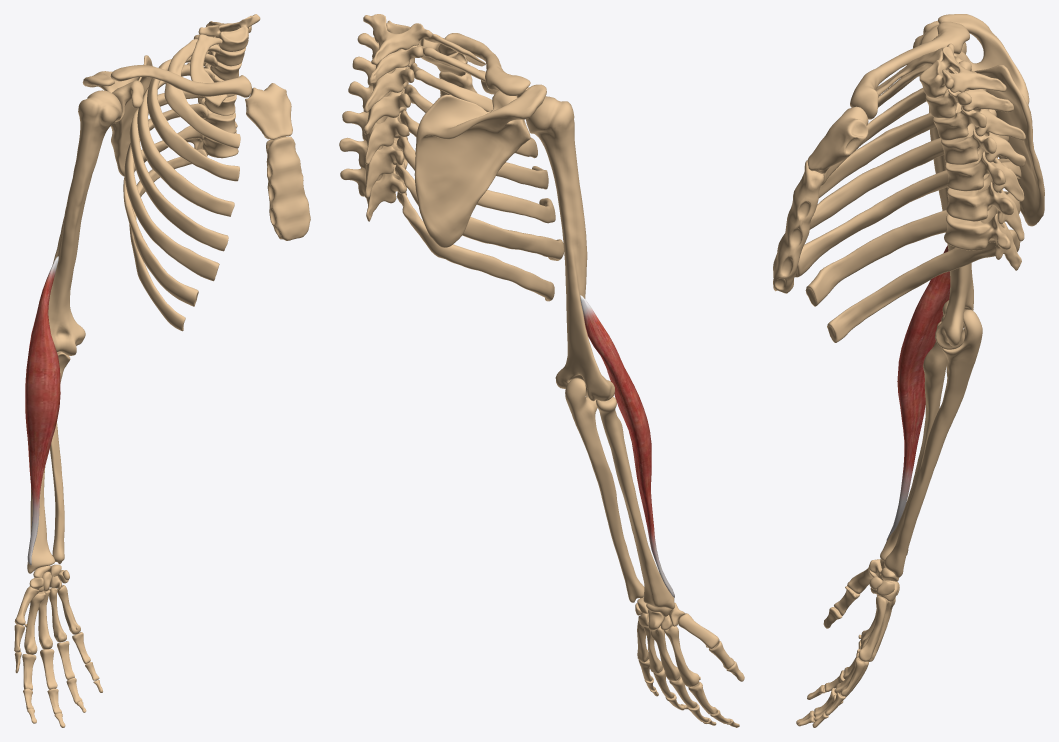
File: overview_demo.glb
The picture shows the model from 3 angles, left to right: view 1: azimuth 30°, elevation 25°; view 2: azimuth 150°, elevation 25°; view 3: azimuth 270°, elevation 25°; orthographic projection. The views are drawn at different scales.
Visible parts, largest first — view 1: Humerus.r, Brachioradialis muscle.r, Body of sternum, Rib (6th).r, Rib (4th).r, Rib (5th).r, Scapula.r, Rib (3rd).r, Rib (7th).r, Rib (2nd).r, Clavicle.r, Manubrium of sternum (+9 smaller); view 2: Scapula.r, Humerus.r, Brachioradialis muscle.r, Ulna.r, Radius.r, Rib (8th).r, Rib (7th).r, Clavicle.r, Rib (6th).r, Thoracic vertebrae (T1), Thoracic vertebrae (T6), Thoracic vertebrae (T5) (+9 smaller); view 3: Scapula.r, Brachioradialis muscle.r, Ulna.r, Rib (8th).r, Rib (7th).r, Rib (6th).r, Humerus.r, Body of sternum, Rib (5th).r, Clavicle.r, Thoracic vertebrae (T7), Thoracic vertebrae (T6) (+12 smaller).
Part boxes in pixels (x1,y1,x2,y2): Humerus.r: (48,90,121,355); Brachioradialis muscle.r: (25,256,60,565); Body of sternum: (266,136,310,240); Rib (6th).r: (124,103,219,281); Rib (4th).r: (137,64,234,216); Rib (5th).r: (129,91,228,251); Scapula.r: (82,55,152,176); Rib (3rd).r: (147,53,239,181); Rib (7th).r: (123,125,204,306); Rib (2nd).r: (164,38,240,148); Clavicle.r: (110,65,251,97); Manubrium of sternum: (245,83,292,139); Scapula.r: (414,84,546,247); Humerus.r: (526,96,614,401); Brachioradialis muscle.r: (580,295,674,597); Ulna.r: (565,378,644,602); Radius.r: (596,396,674,608); Rib (8th).r: (397,192,554,301); Rib (7th).r: (395,162,563,260); Clavicle.r: (438,33,530,95); Rib (6th).r: (396,136,555,223); Thoracic vertebrae (T1): (363,14,432,64); Thoracic vertebrae (T6): (339,137,404,197); Thoracic vertebrae (T5): (342,111,409,164); Scapula.r: (938,14,1044,226); Brachioradialis muscle.r: (886,245,950,540); Ulna.r: (884,309,982,577); Rib (8th).r: (827,229,1020,342); Rib (7th).r: (805,191,1020,306); Rib (6th).r: (795,158,1021,277); Humerus.r: (913,20,973,349); Body of sternum: (773,160,823,293); Rib (5th).r: (809,134,1008,229); Clavicle.r: (850,21,969,119); Thoracic vertebrae (T7): (944,205,1021,270); Thoracic vertebrae (T6): (946,168,1024,241).
Size of the model in its own units: 0.3748 by 0.7538 by 0.2295.
Materials: 51 (1 with a texture image).
